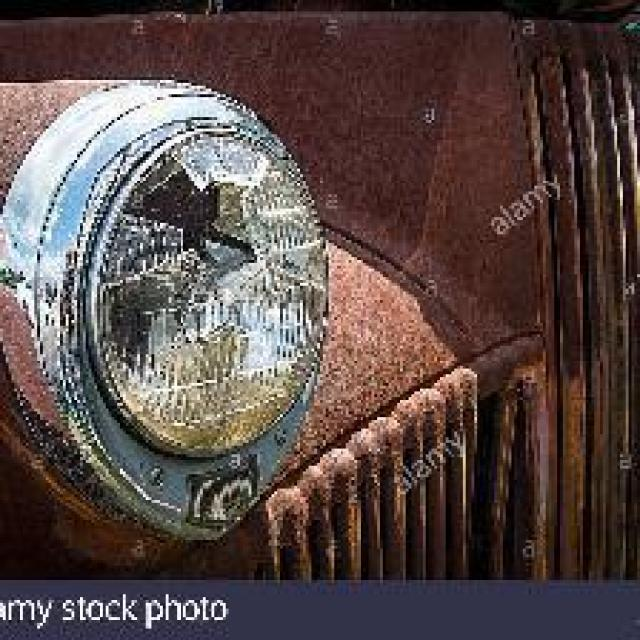damaged: (89, 128, 328, 420)
